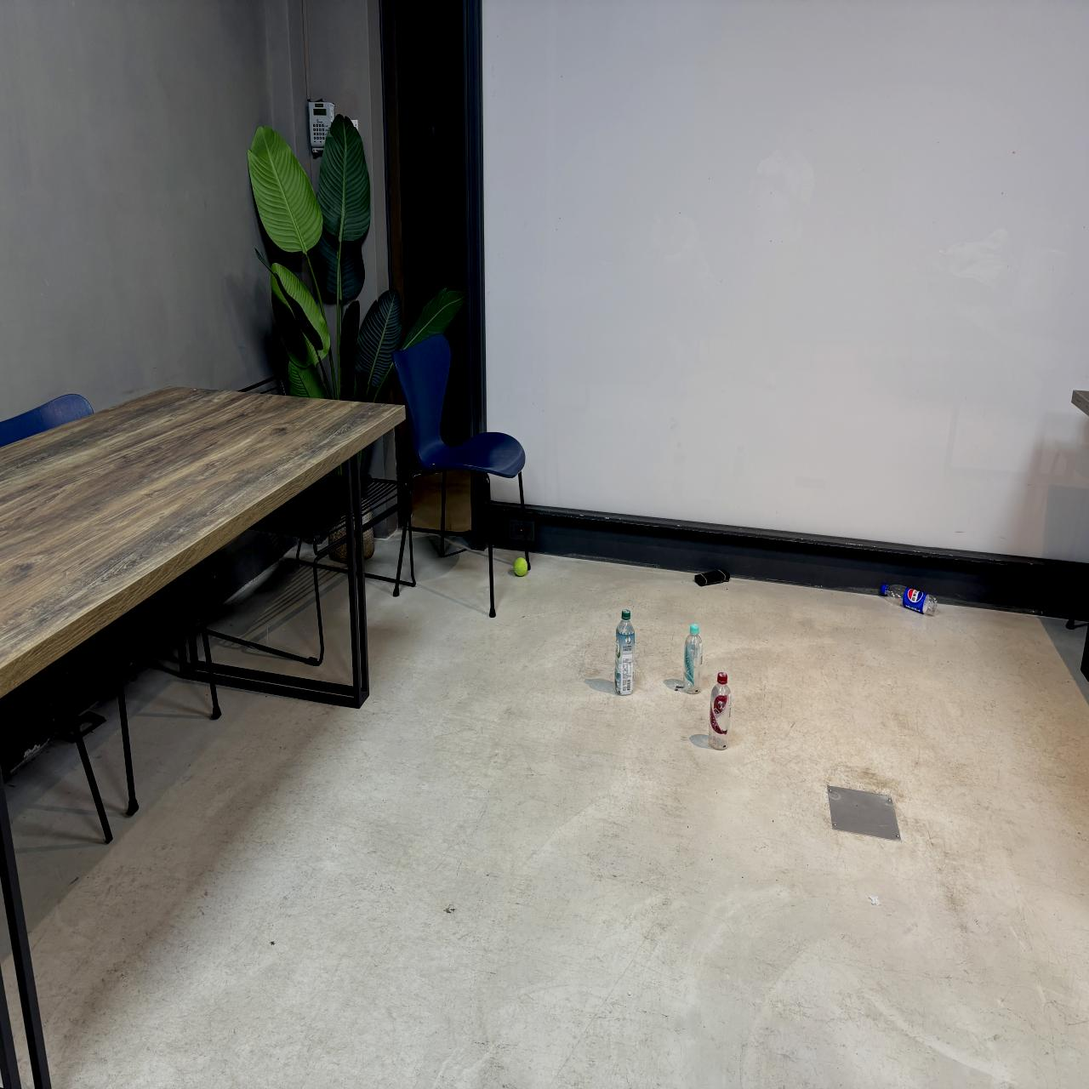plastic-bottle: (709, 672, 732, 750), (615, 609, 634, 695), (684, 624, 703, 693)
tennisball: (514, 557, 527, 576)
